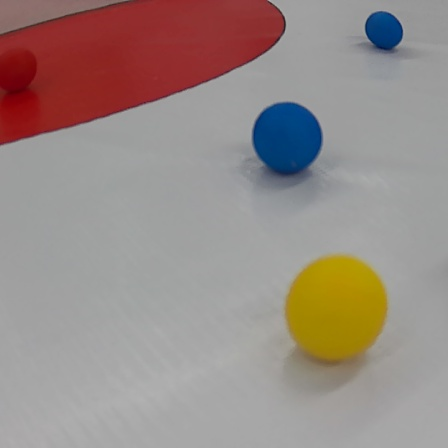blue: (250, 97, 328, 178), (364, 10, 404, 53)
red: (0, 47, 38, 95)
red_base: (1, 1, 282, 139)
yellow: (284, 252, 391, 365)
